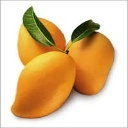mango: (10, 50, 77, 119)
